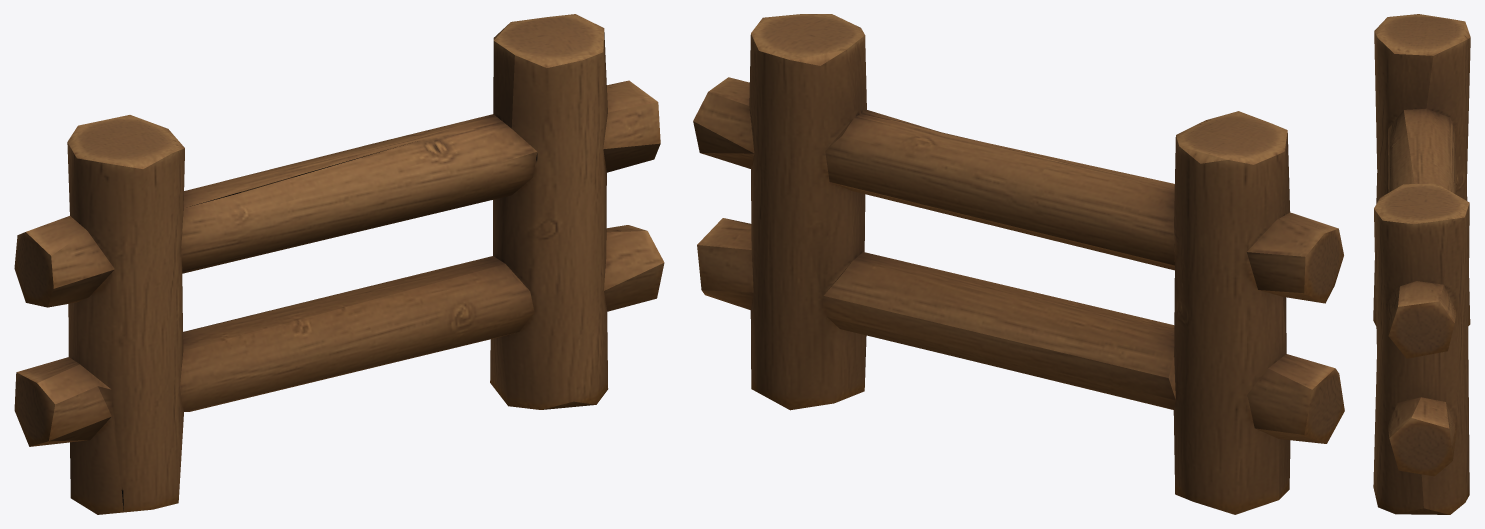
Rendered from elwynn_fence_lod0.glb.
The picture shows the model from 3 angles, left to right: view 1: azimuth 30°, elevation 25°; view 2: azimuth 150°, elevation 25°; view 3: azimuth 270°, elevation 25°; orthographic projection. The views are drawn at different scales.
Visible parts, largest first — view 1: low; view 2: low; view 3: low.
Part boxes in pixels (x1,y1,x2,y2): low: (14,14,664,514); low: (693,14,1344,514); low: (1373,14,1470,514).
Bounding box in the file's own units: 2.99 × 1.65 × 0.4917.
Materials: 1 (1 with a texture image).
